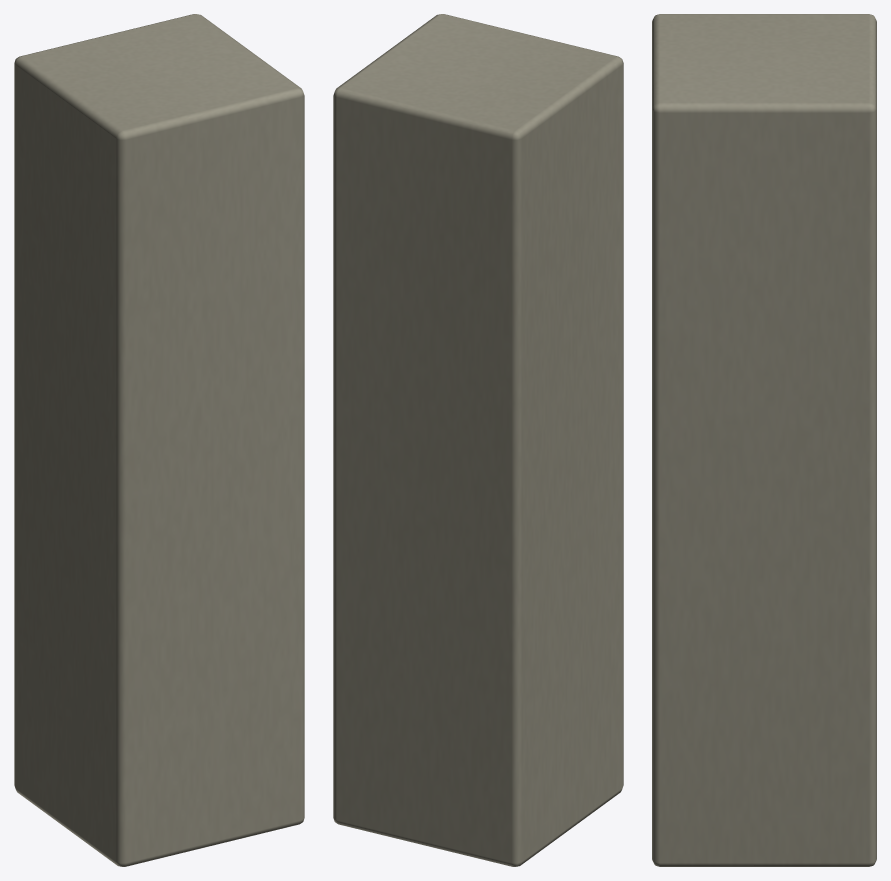
File: column.glb
The picture shows the model from 3 angles, left to right: view 1: azimuth 30°, elevation 25°; view 2: azimuth 150°, elevation 25°; view 3: azimuth 270°, elevation 25°; orthographic projection. The views are drawn at different scales.
Visible parts, largest first — view 1: Column_Core; view 2: Column_Core; view 3: Column_Core.
Boxes of the visible parts, box(x1,y1,x2,y2) form: Column_Core: box(14, 14, 304, 866); Column_Core: box(333, 14, 623, 866); Column_Core: box(652, 14, 876, 866).
Size of the model in its own units: 0.8 by 3 by 0.8.
Materials: 1 (1 with a texture image).
